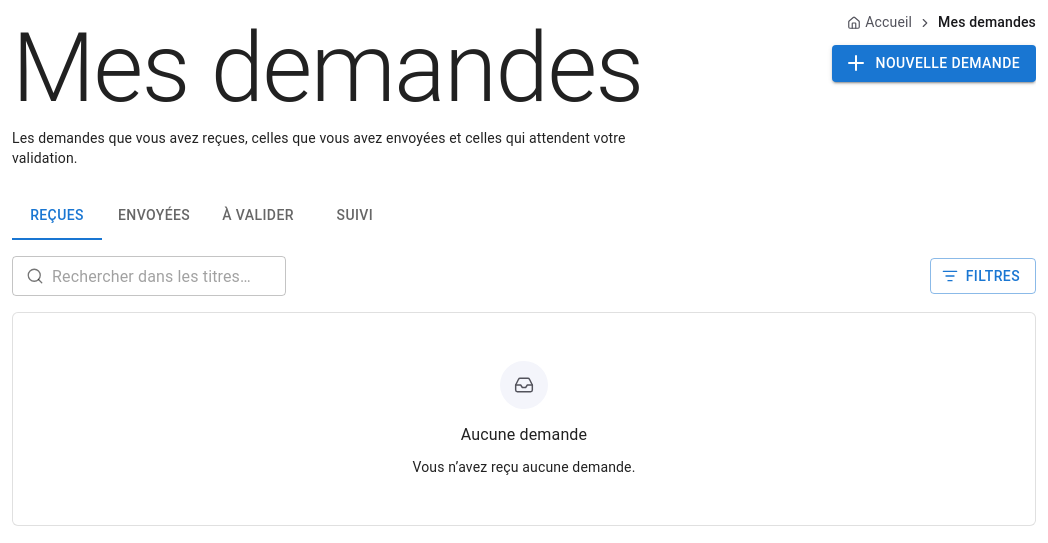
Test: Onglet « Suivi » de l’administration › proposé aux admins : charge toutes les demandes visibles (scope all)
The image size is (1048, 543).
Click the tab "Suivi" at (355, 216), box x1=310 y1=192 x2=400 y2=240
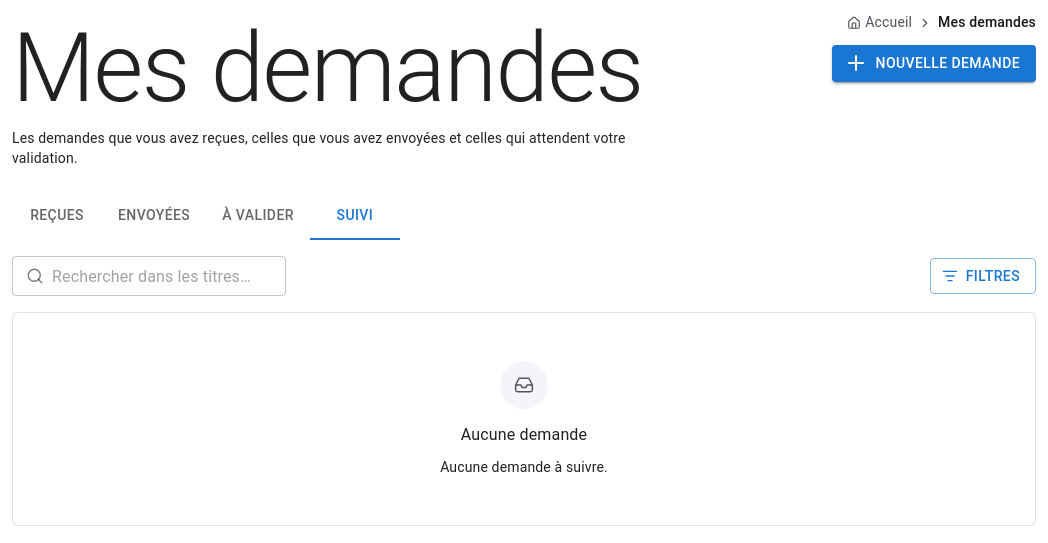
Check: the text "Aucune demande à suivre." is shown, box x1=440 y1=457 x2=608 y2=477
